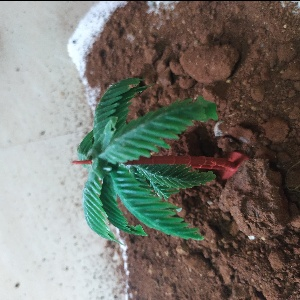plant: (69, 75, 238, 242)
